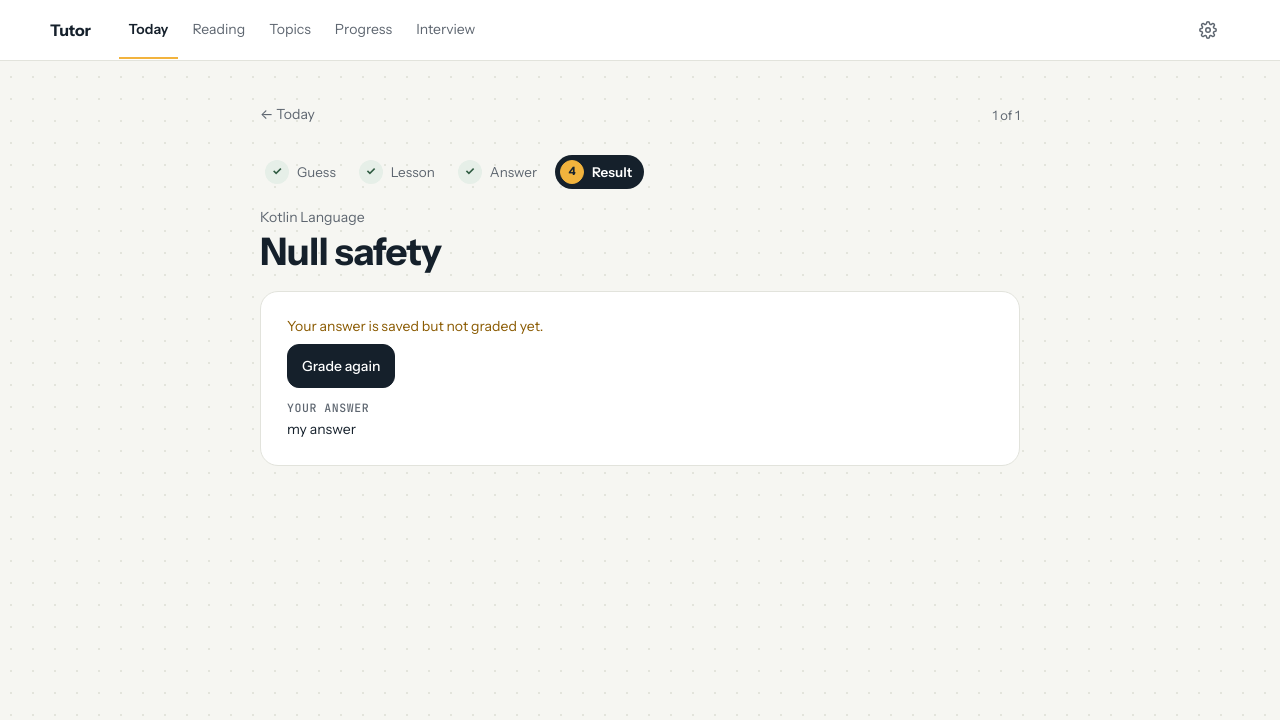
it: a pending attempt without an error can be graded again
Check: the text "my answer" is shown, box [287,420,356,438]
Check: the text "Your answer is saved but not graded yet." is shown, box [287,317,543,335]
Click the button "Grade again". click: (341, 366)
box: [287,344,395,388]
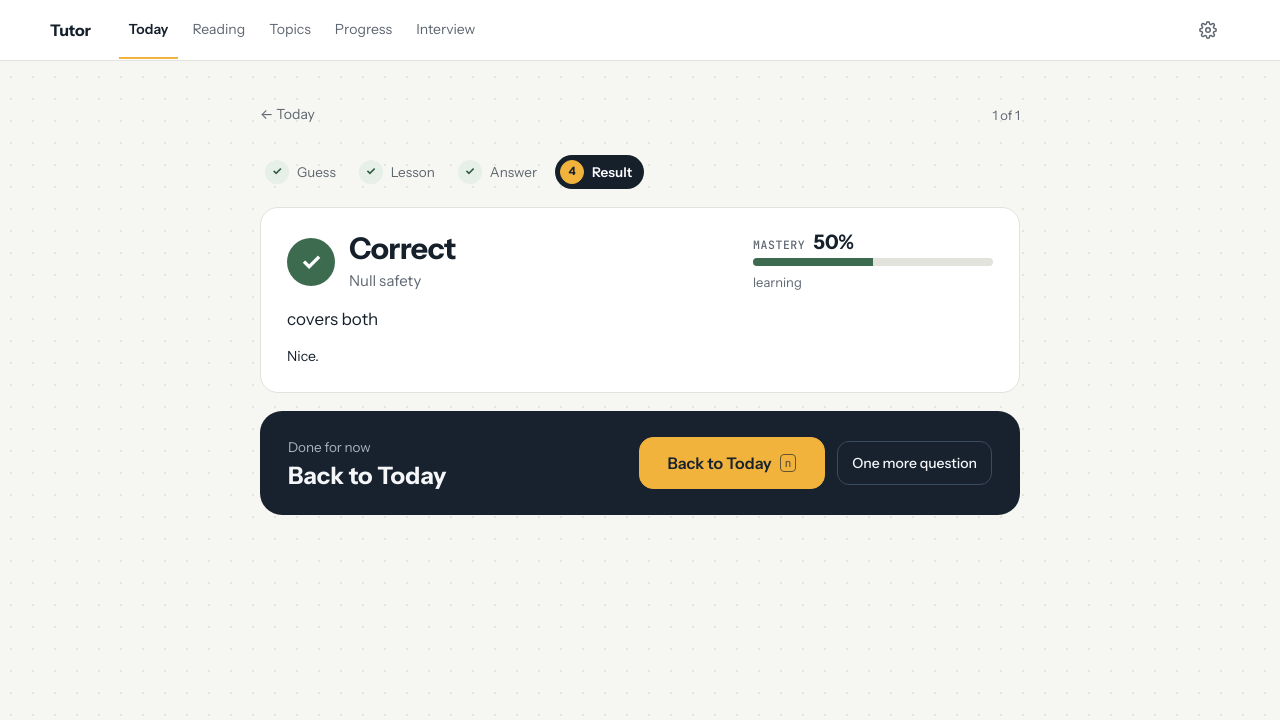
Check: the heading "Correct" is shown, box [349,230,456,267]
